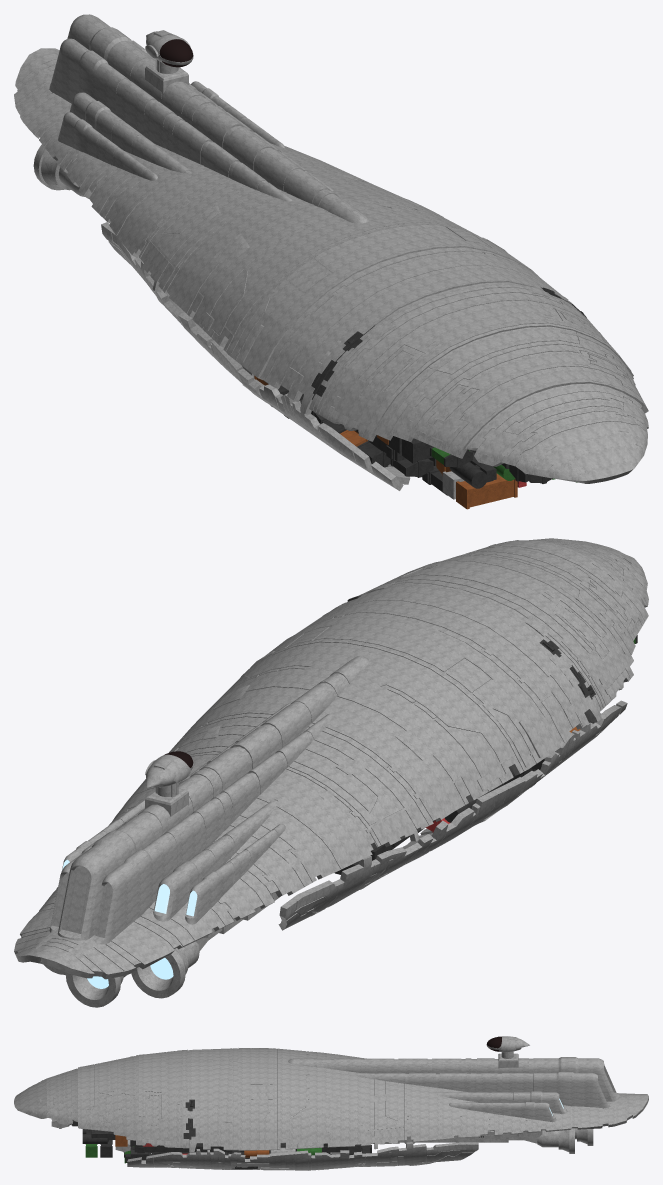
Rendered from Rebel transport.glb.
3 views of the same model, one above another, from view 1: azimuth 30°, elevation 25°; view 2: azimuth 150°, elevation 25°; view 3: azimuth 270°, elevation 25° (orthographic). The views are drawn at different scales.
Visible parts, largest first — view 1: HullPlatesTop, TopEngines, SectionTop, Cargo, Greebles, HullPlatesBottom, SectionBottom, CockPit, BottomEngines1; view 2: HullPlatesTop, TopEngines, SectionTop, HullPlatesBottom, Greebles, SectionBottom, BottomEngines1, CockPit, BottomEngine2, Cargo; view 3: HullPlatesTop, TopEngines, HullPlatesBottom, SectionTop, Cargo, Greebles, SectionBottom, BottomEngines1, CockPit, BottomEngine2.
Part boxes in pixels (x1,y1,x2,y2): HullPlatesTop: (14,48,648,481); TopEngines: (49,14,369,223); SectionTop: (15,61,648,483); Cargo: (242,366,577,509); Greebles: (153,163,646,470); HullPlatesBottom: (101,224,408,490); SectionBottom: (102,222,410,490); CockPit: (145,30,193,93); BottomEngines1: (33,144,84,196); HullPlatesTop: (14,538,648,974); TopEngines: (49,656,369,945); SectionTop: (14,560,646,979); HullPlatesBottom: (282,703,627,930); Greebles: (203,541,646,937); SectionBottom: (278,700,626,929); BottomEngines1: (43,894,280,998); CockPit: (145,751,193,816); BottomEngine2: (65,972,126,1007); Cargo: (334,635,637,874); HullPlatesTop: (14,1048,648,1151); TopEngines: (288,1057,619,1122); HullPlatesBottom: (127,1143,478,1170); SectionTop: (17,1048,648,1150); Cargo: (51,1119,371,1163); Greebles: (32,1049,533,1170); SectionBottom: (127,1142,478,1169); BottomEngines1: (398,1128,574,1153); CockPit: (486,1036,529,1068); BottomEngine2: (575,1128,593,1145).
Size of the model in its own units: 27.46 by 18.05 by 89.36.
7 materials, 5 textured.
